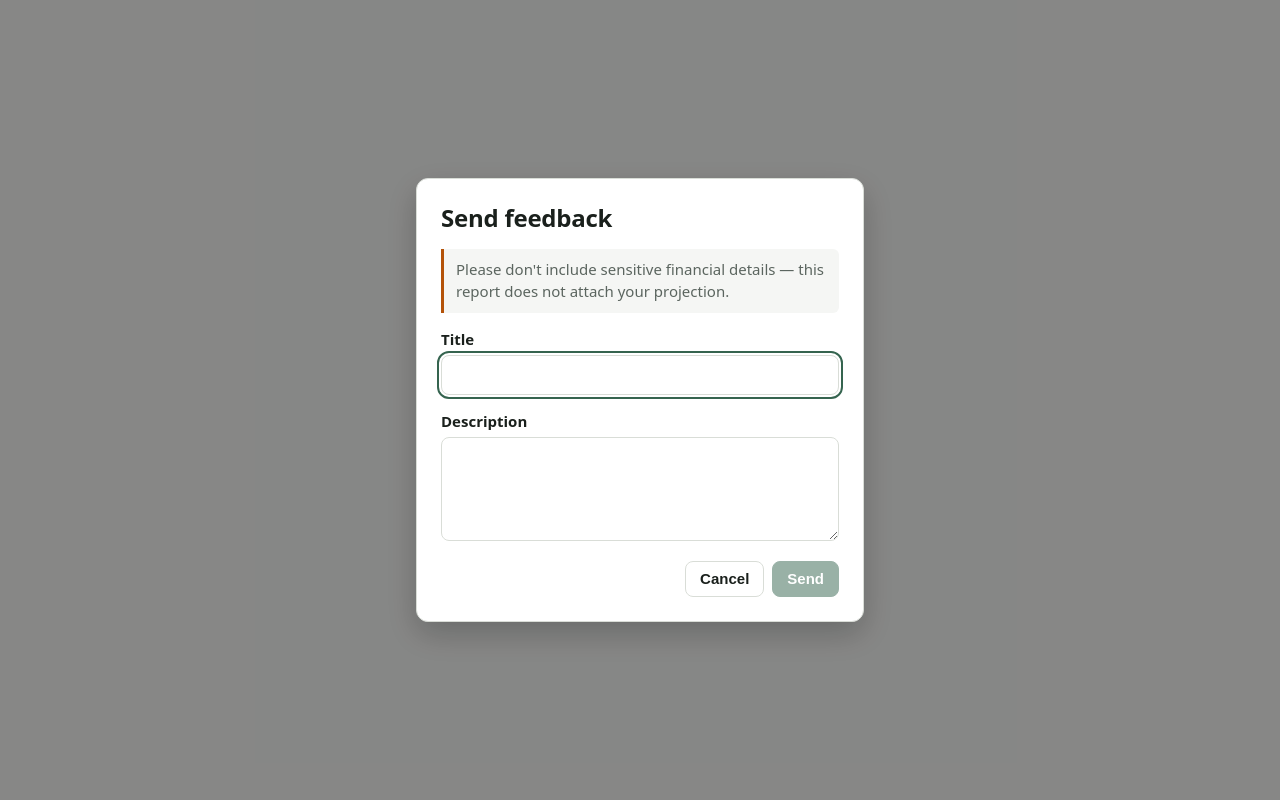
Test case: FeedbackModal › shows only the support_id on success — no projection link
Type "Break-even off by one" into the field labelled "Title" at point(640, 375), box [441,355,839,395]
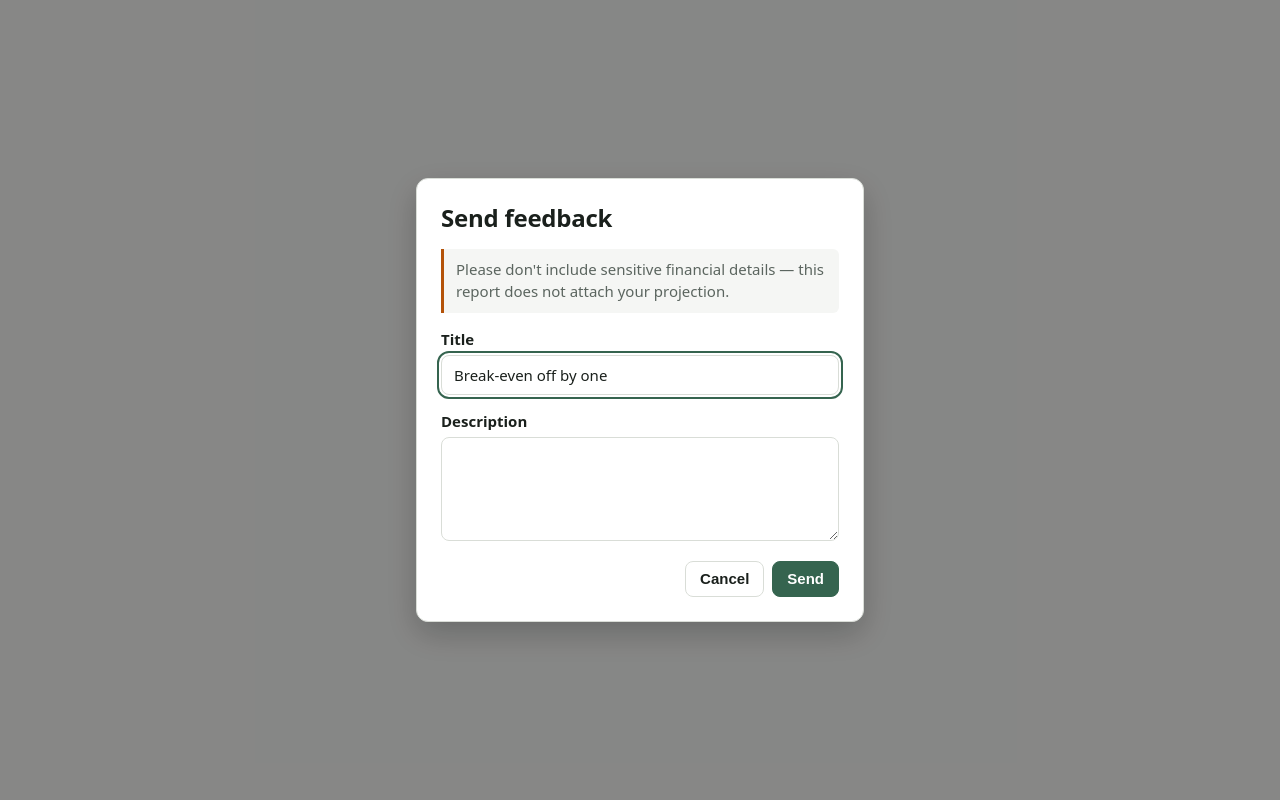
Type "Banner vs chart." into the text box labelled "Description" at point(640, 489), box [441,437,839,541]
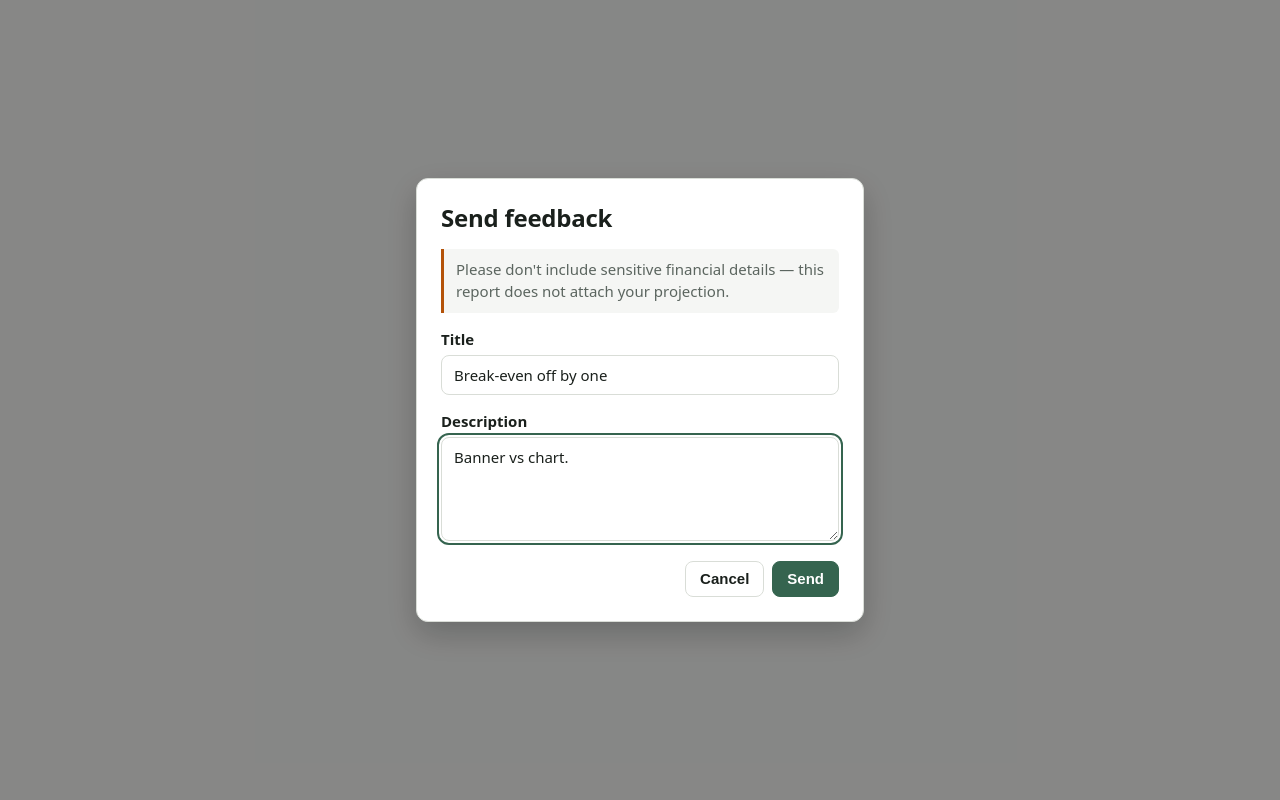
Click the button "Send" at point(806, 579), box [772,561,839,597]
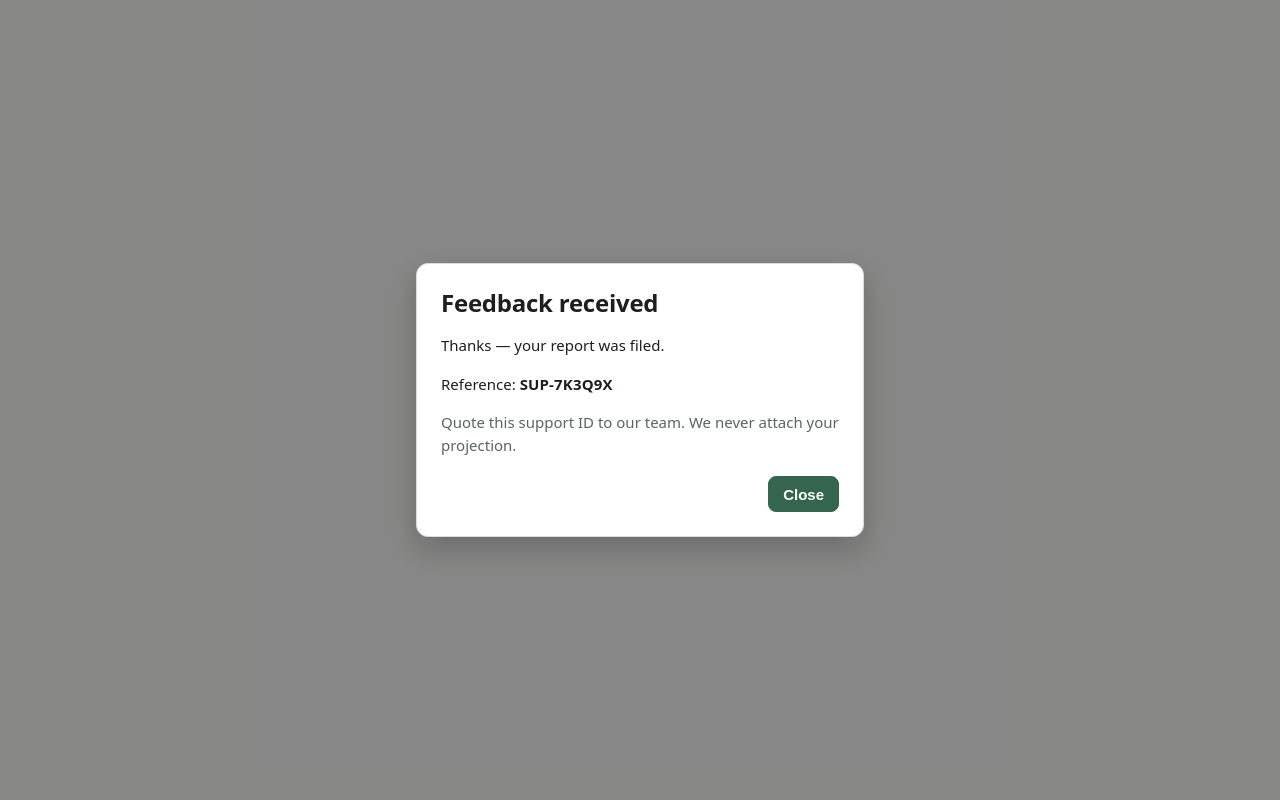
Check: the element with test id "feedback-success" shows "SUP-7K3Q9X", box [520,374,613,394]
